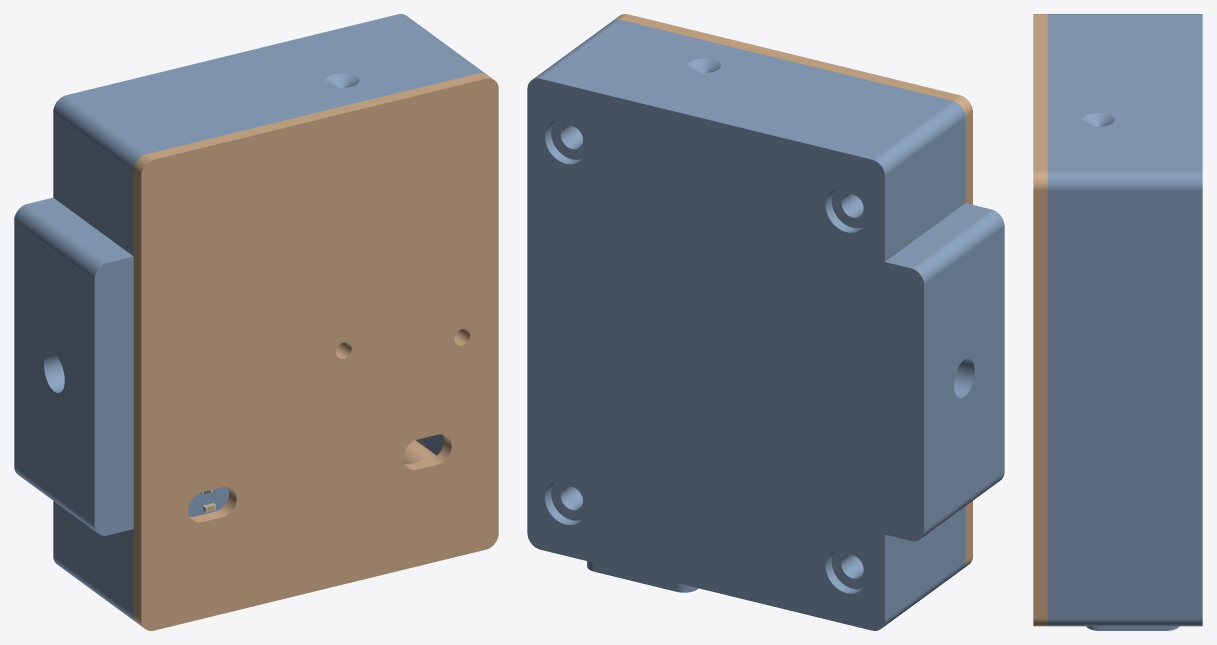
The model's file is scheda_nel_case.glb.
3 renders of one model, left to right at view 1: azimuth 30°, elevation 25°; view 2: azimuth 150°, elevation 25°; view 3: azimuth 270°, elevation 25°, orthographic. The views are drawn at different scales.
Parts seen in each view (by area): view 1: gps_case_coperchio.stl, gps_case_base.stl; view 2: gps_case_base.stl, gps_case_coperchio.stl; view 3: gps_case_base.stl, gps_case_coperchio.stl.
Part boxes in pixels (left/top/right/bottom): gps_case_coperchio.stl: left=133, top=73, right=498, bottom=630; gps_case_base.stl: left=14, top=14, right=485, bottom=622; gps_case_base.stl: left=527, top=19, right=1004, bottom=630; gps_case_coperchio.stl: left=613, top=14, right=972, bottom=568; gps_case_base.stl: left=1047, top=14, right=1202, bottom=630; gps_case_coperchio.stl: left=1033, top=14, right=1047, bottom=626.
Bounding box in the file's own units: 60.9 × 72.1 × 23.4.
